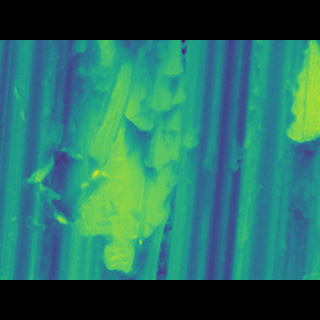Loch: (15, 69, 199, 252), (283, 71, 320, 150)
